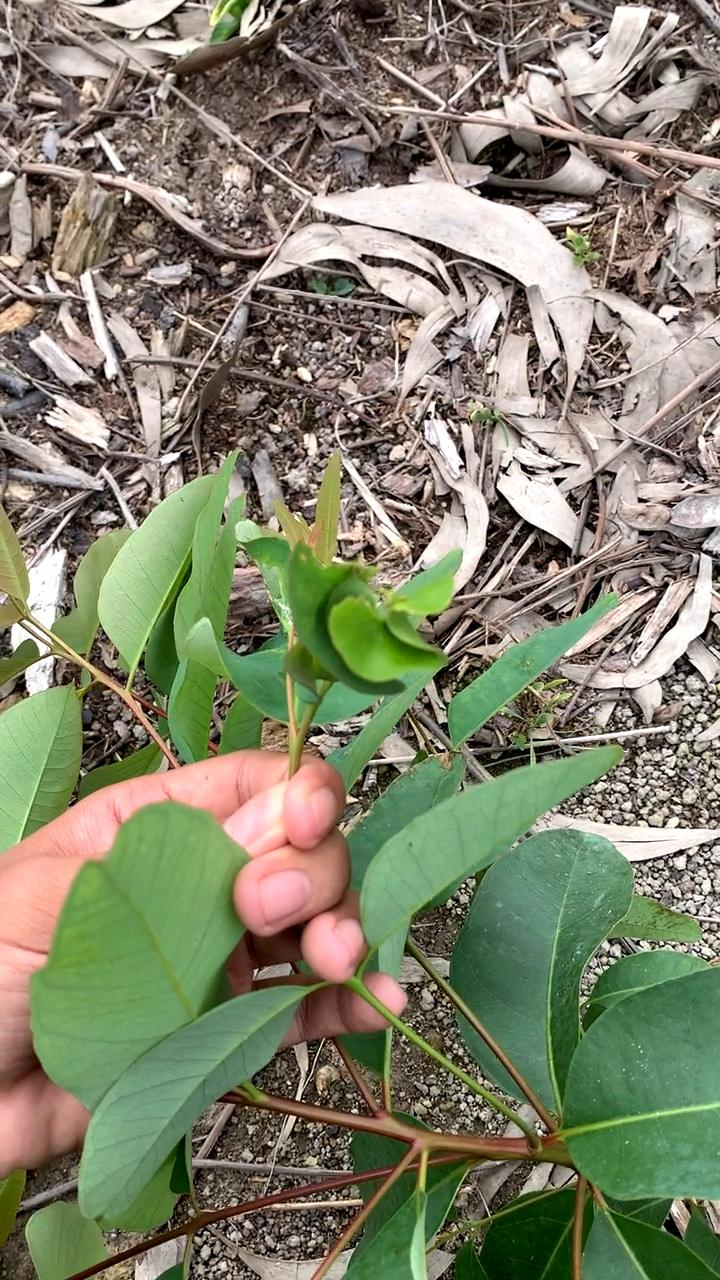Leaf Roller - Leaf: (279, 505, 486, 724)
